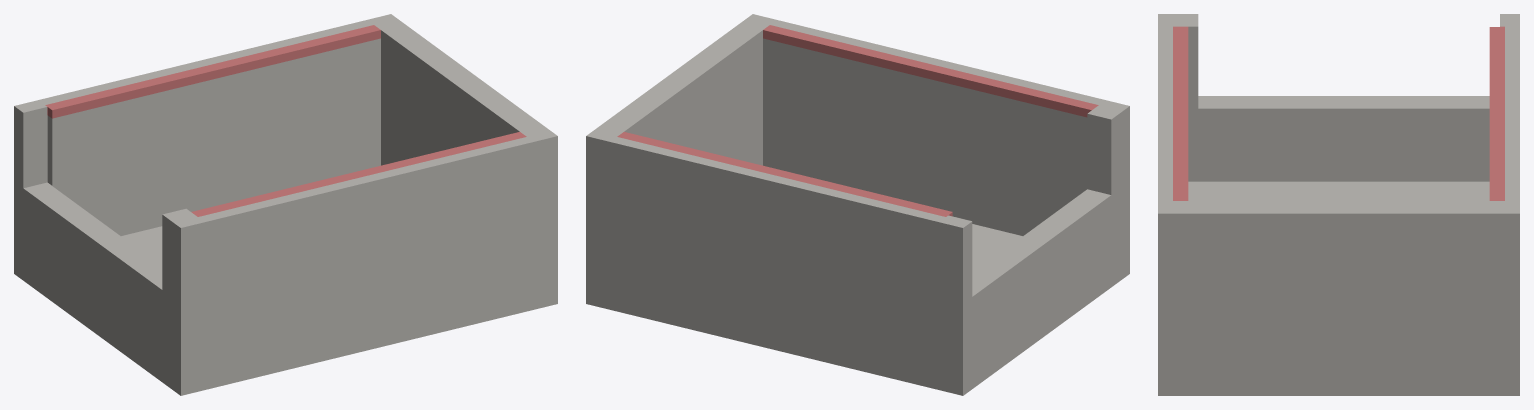
The model's file is step_04.glb.
The picture shows the model from 3 angles, left to right: view 1: azimuth 30°, elevation 25°; view 2: azimuth 150°, elevation 25°; view 3: azimuth 270°, elevation 25°; orthographic projection. The views are drawn at different scales.
Parts seen in each view (by area): view 1: part__inspection chamber, removed__inspection chamber; view 2: part__inspection chamber, removed__inspection chamber; view 3: part__inspection chamber, removed__inspection chamber.
Part boxes in pixels (bbox=[...]): part__inspection chamber: bbox=[14, 14, 557, 395]; removed__inspection chamber: bbox=[45, 25, 526, 216]; part__inspection chamber: bbox=[586, 14, 1129, 395]; removed__inspection chamber: bbox=[617, 25, 1098, 216]; part__inspection chamber: bbox=[1158, 14, 1519, 395]; removed__inspection chamber: bbox=[1173, 26, 1504, 200].
Size of the model in its own units: 2350 by 1000 by 1800.
